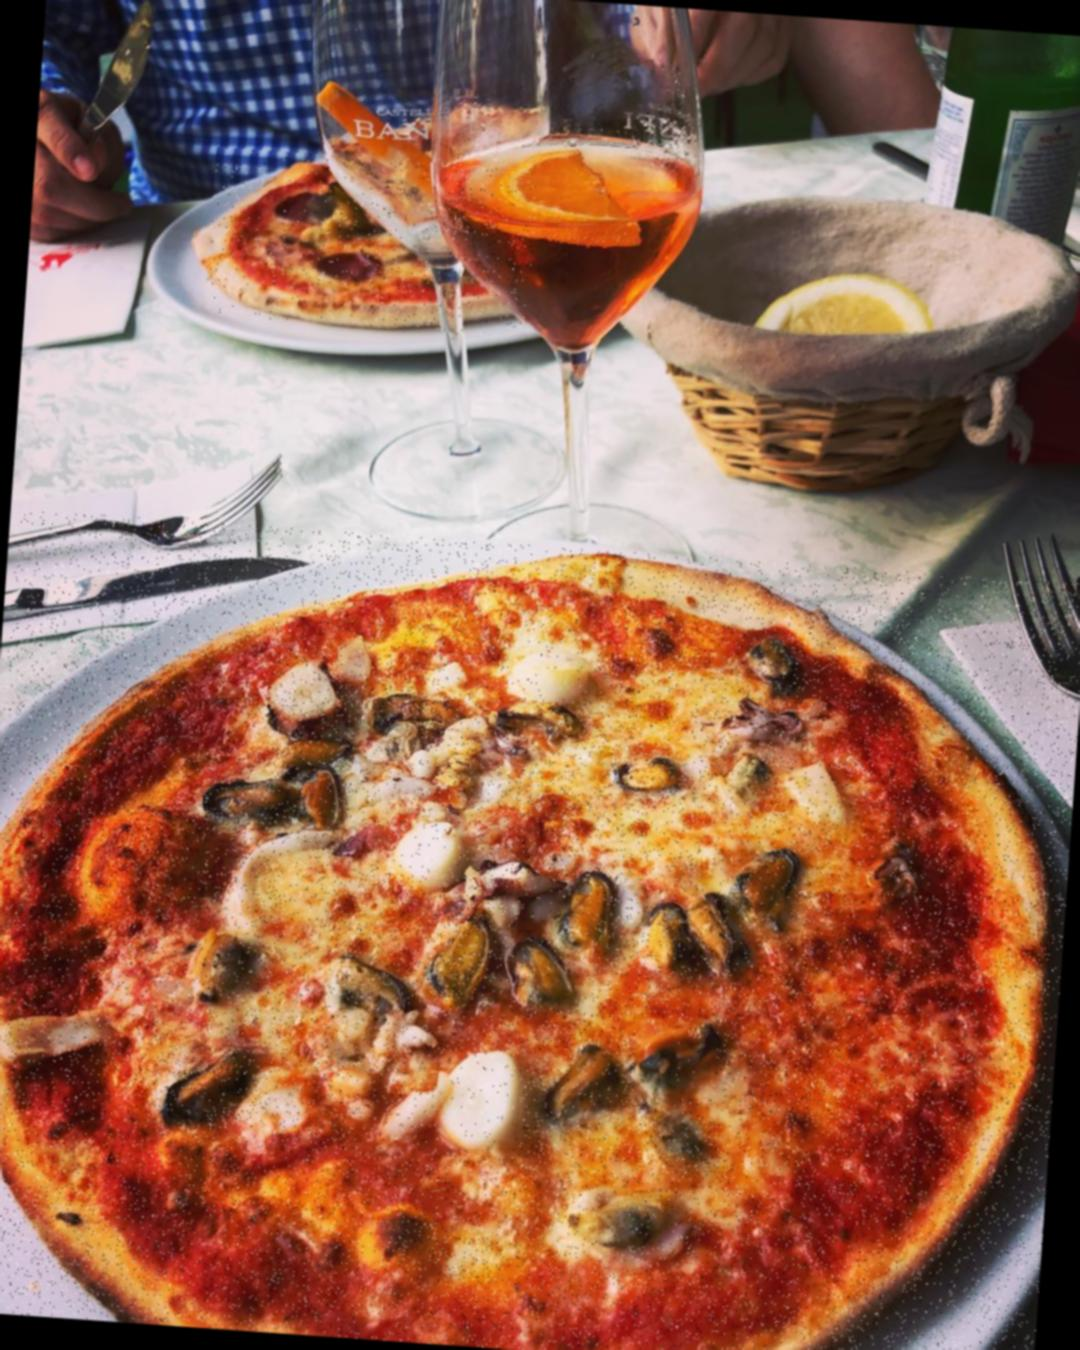Cheese: (433, 1050, 523, 1156), (507, 628, 606, 702), (387, 817, 475, 876)
Mushroom: (500, 886, 597, 1009), (151, 1040, 259, 1149), (325, 951, 436, 1049), (577, 1181, 691, 1272), (247, 657, 356, 736), (421, 893, 501, 997), (730, 838, 809, 942), (634, 1018, 719, 1101), (863, 839, 938, 919), (690, 893, 758, 980), (550, 1049, 624, 1128), (603, 750, 701, 808), (181, 920, 238, 1009), (638, 898, 708, 971), (496, 703, 575, 754), (743, 630, 804, 693), (361, 683, 430, 734), (715, 754, 776, 802)
Pepperoni: (256, 181, 335, 233), (317, 242, 384, 295)
Pizza: (0, 509, 1080, 1350), (205, 148, 539, 337)
